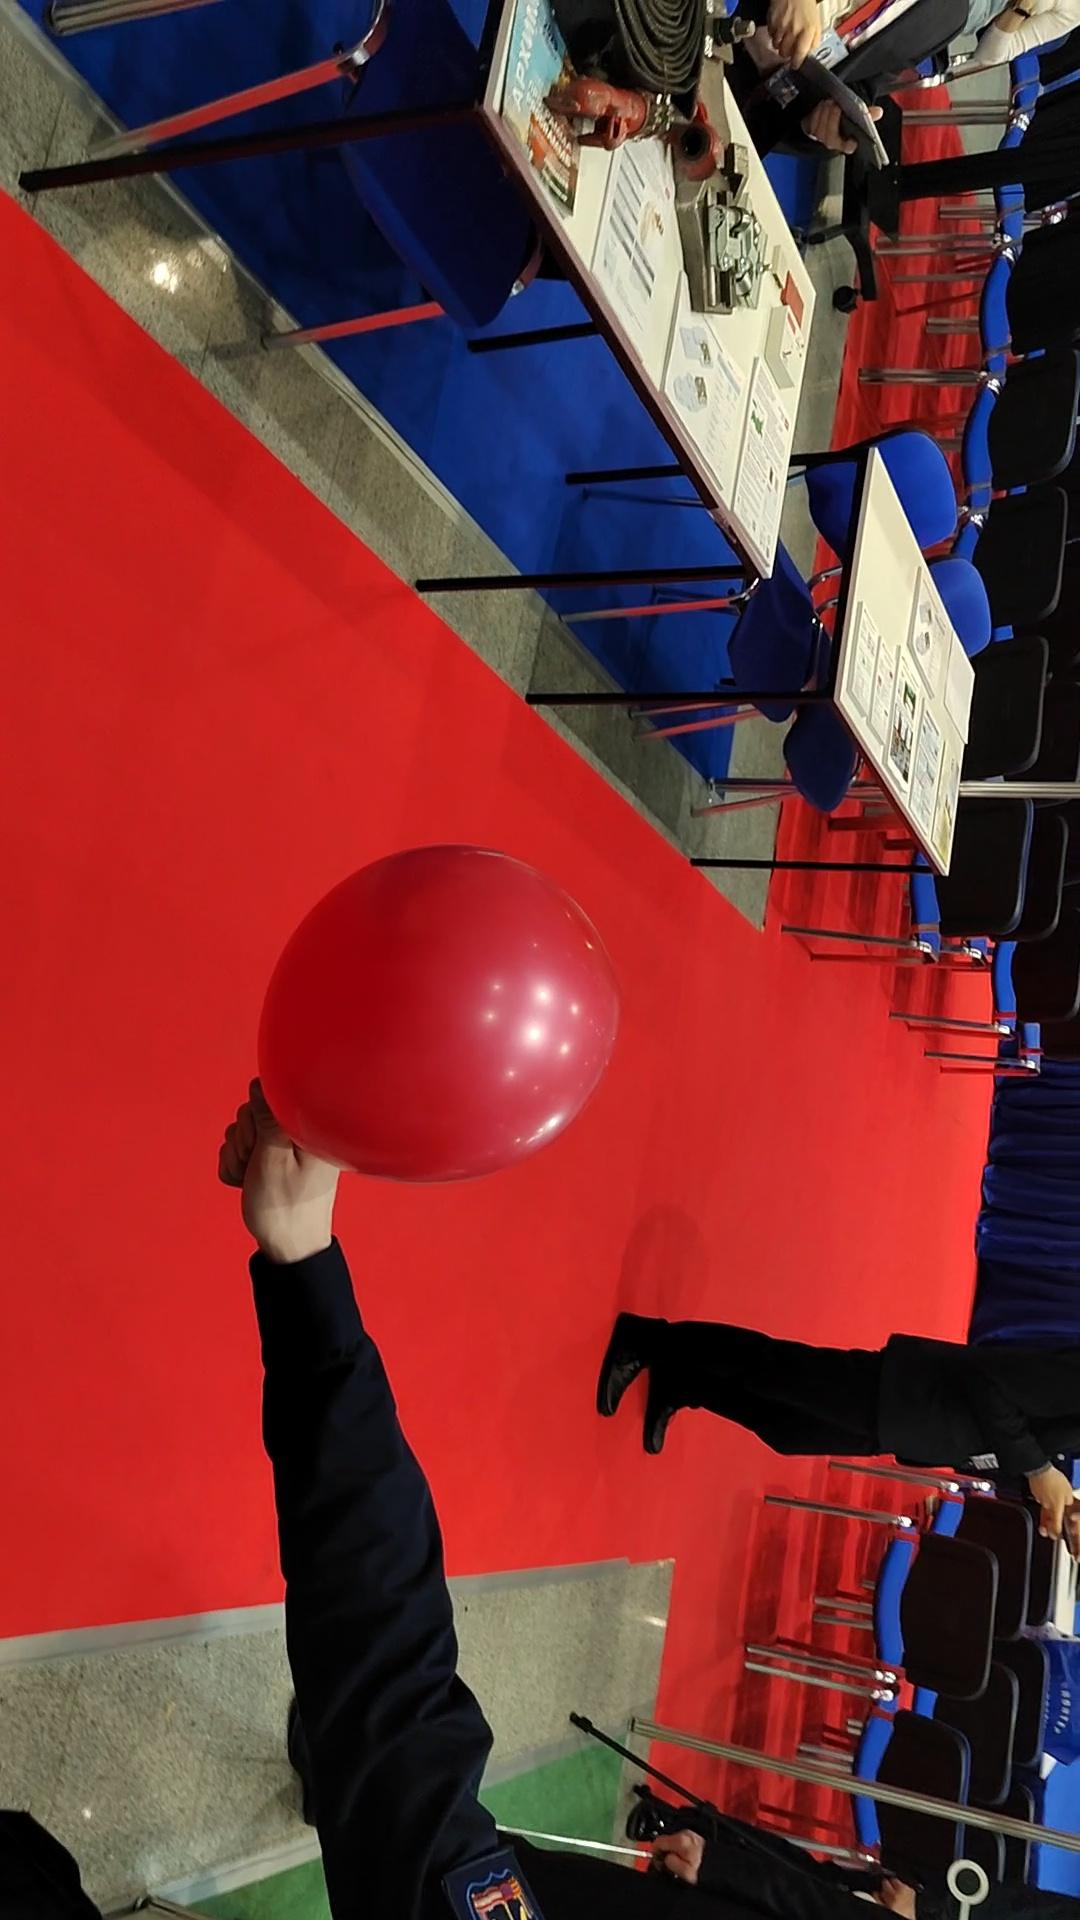red: (244, 831, 622, 1197)
